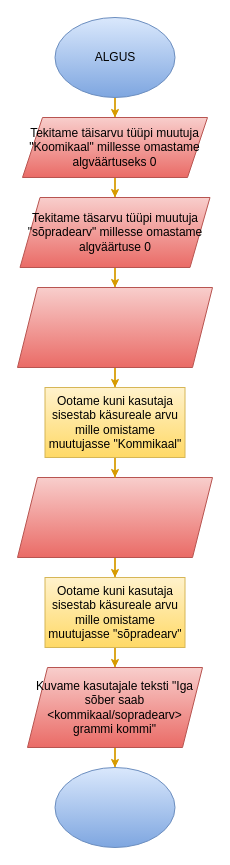
This 230x865 diagram has some shape labels left out. The centre of each missing label's shape, as x and y in pixels:
Kuvame kasutajale teksti "Mitmele inimesele sa kommi ostsid ? ": point 114,517
Kuvame kasutajale teksti "Mitu grammi kommi sul on ? (palun sisesta täisarv)": point 114,327
LÕPP: point 114,807
